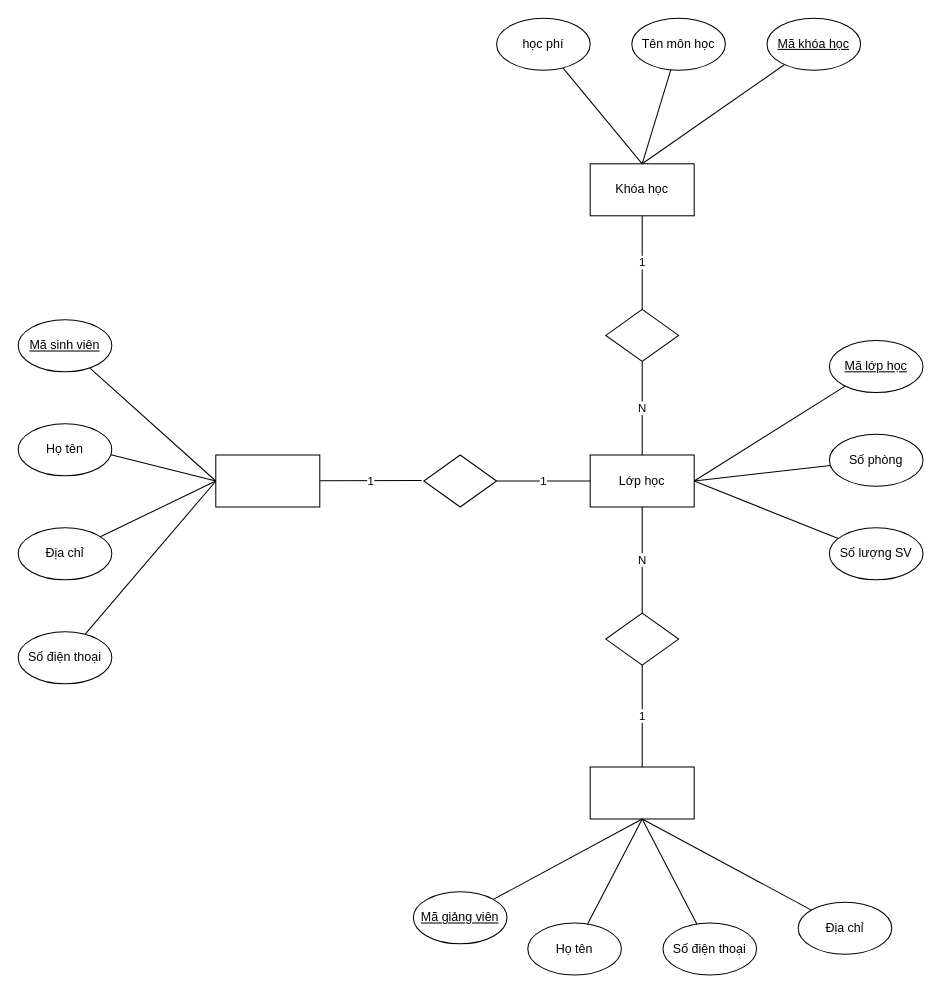
Some shapes in this 941 by 993 pixel diagram are drawn without their labels. Each missing label, with the centre of its shape:
Có: (x=642, y=334)
Dạy: (x=642, y=638)
Giảng viên: (x=641, y=792)
Học: (x=460, y=480)
Sinh Viên: (x=267, y=480)
